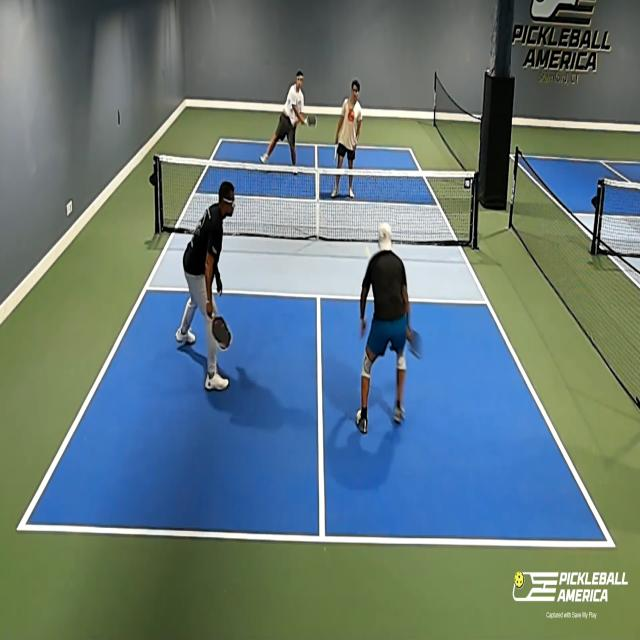Pickleball: (362, 242, 371, 262)
